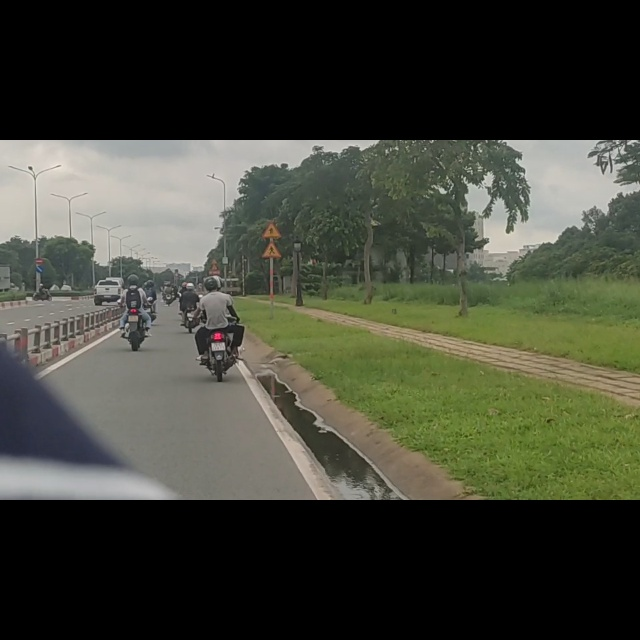bien_cam: (261, 145, 283, 175), (262, 180, 282, 211), (35, 209, 45, 223), (35, 223, 44, 237)
